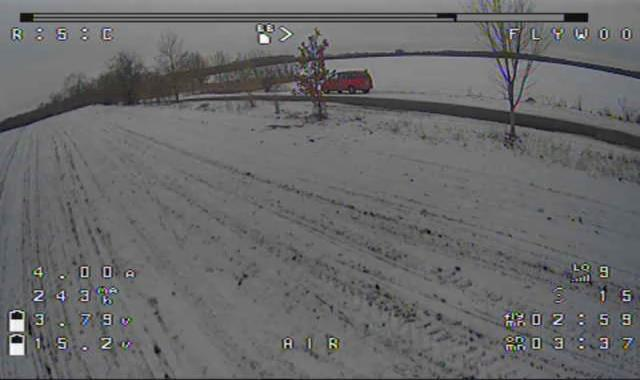car: (316, 70, 388, 90)
